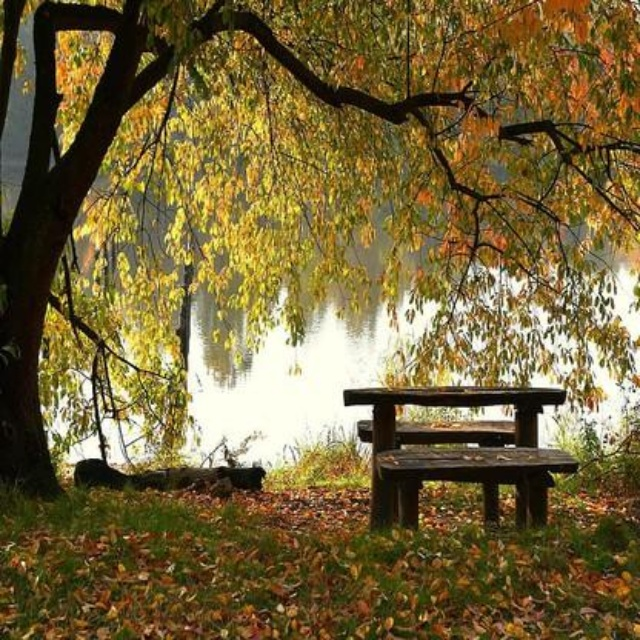obstacle: (325, 385, 588, 537)
